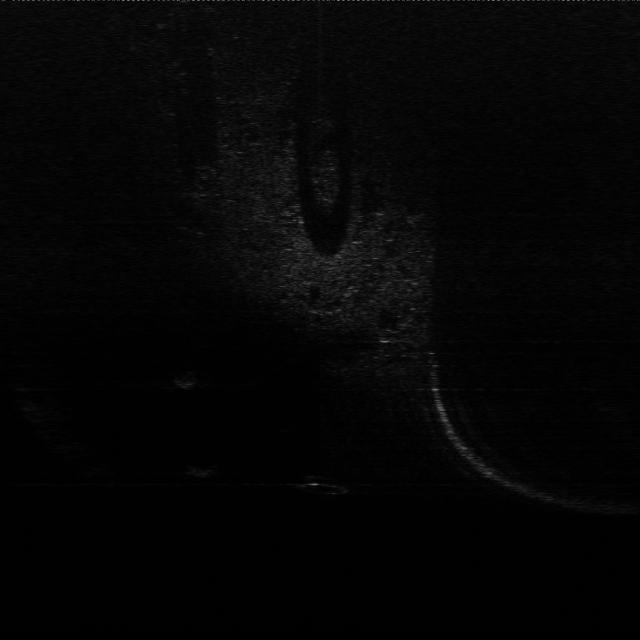cube: (183, 462, 221, 484)
square cage: (170, 368, 204, 392)
tyre: (291, 469, 353, 501)
